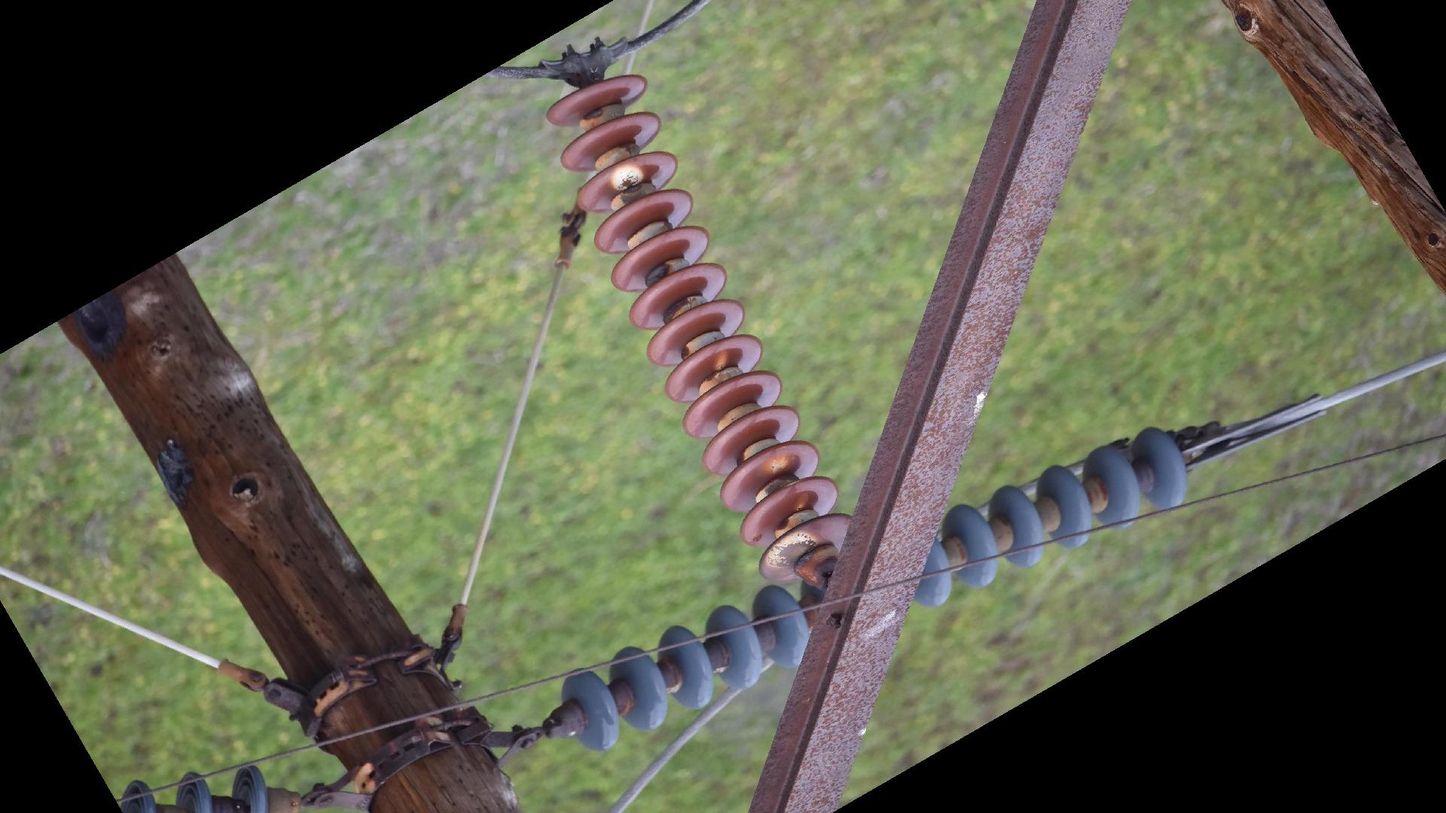insulator: (542, 69, 857, 583), (901, 419, 1197, 613), (557, 579, 816, 757), (114, 760, 274, 813)
insulator_flashover: (764, 528, 820, 570), (609, 161, 645, 193), (767, 452, 793, 477), (711, 345, 731, 373)
